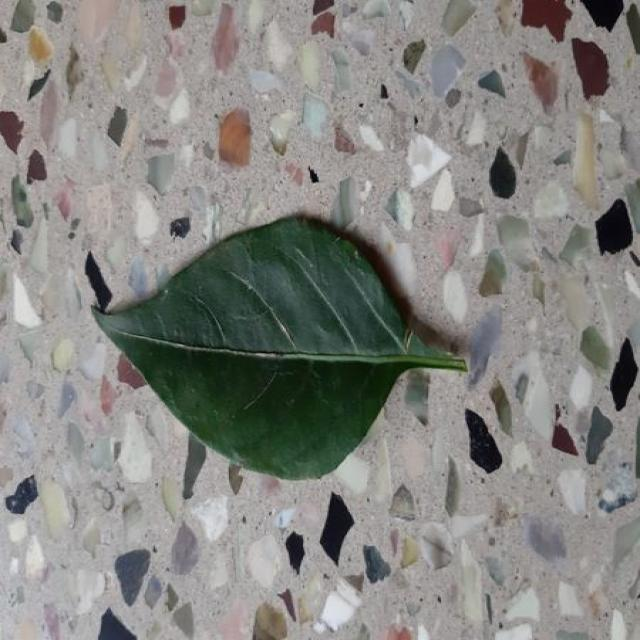chilly: (95, 218, 465, 479)
